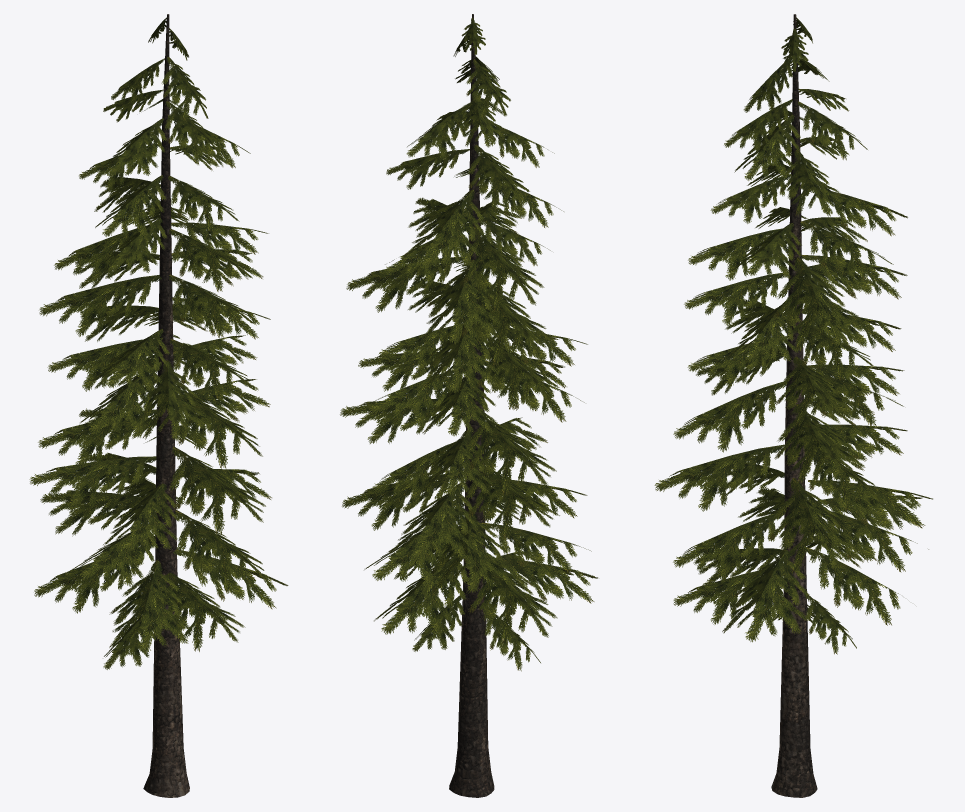
Rendered from pine_tree_n_2_3.glb.
The picture shows the model from 3 angles, left to right: view 1: azimuth 30°, elevation 25°; view 2: azimuth 150°, elevation 25°; view 3: azimuth 270°, elevation 25°; orthographic projection.
Parts seen in each view (by area): view 1: pine_tree_n_2_3_branches, pine_tree_n_2_3; view 2: pine_tree_n_2_3_branches, pine_tree_n_2_3; view 3: pine_tree_n_2_3_branches, pine_tree_n_2_3.
Boxes of the visible parts, box(x1,y1,x2,y2) form: pine_tree_n_2_3_branches: box(29, 17, 288, 669); pine_tree_n_2_3: box(143, 14, 189, 797); pine_tree_n_2_3_branches: box(340, 17, 597, 671); pine_tree_n_2_3: box(449, 14, 494, 797); pine_tree_n_2_3_branches: box(654, 17, 932, 654); pine_tree_n_2_3: box(771, 14, 817, 797).
Size of the model in its own units: 1.98 by 5.73 by 2.06.
Materials: 2 (2 with a texture image).
